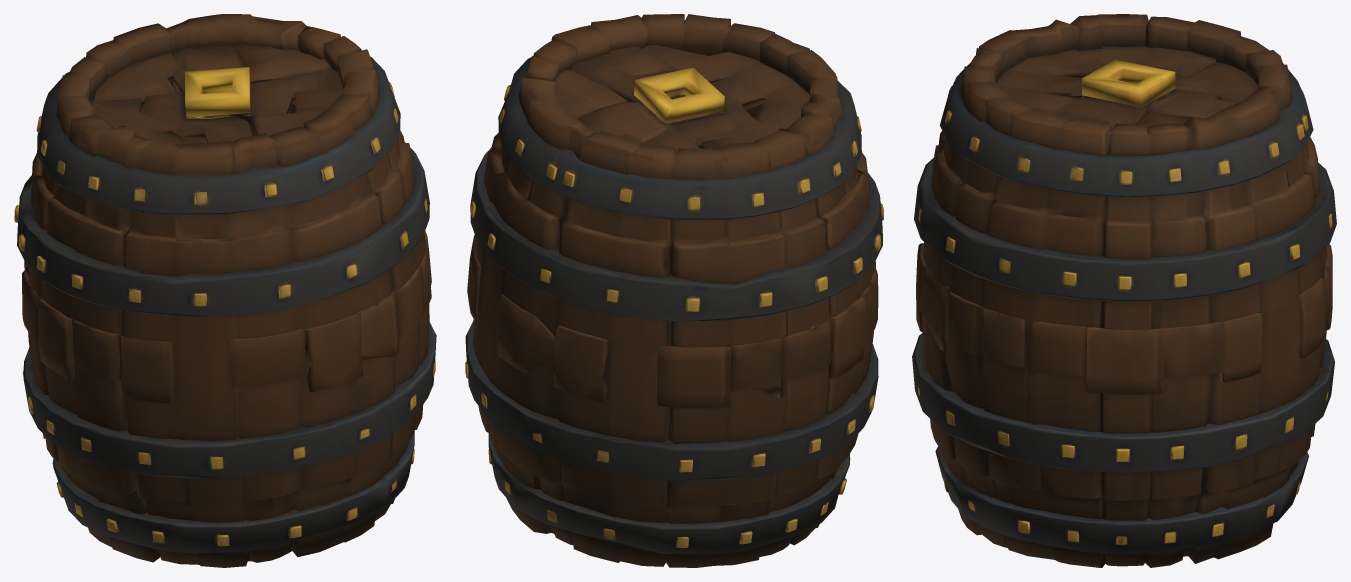
Rendered from barril.glb.
3 renders of one model, left to right at view 1: azimuth 30°, elevation 25°; view 2: azimuth 150°, elevation 25°; view 3: azimuth 270°, elevation 25°, orthographic. The views are drawn at different scales.
Parts seen in each view (by area): view 1: tripo_7d68346e_bc78_473b_a969_d01b76569183; view 2: tripo_7d68346e_bc78_473b_a969_d01b76569183; view 3: tripo_7d68346e_bc78_473b_a969_d01b76569183.
Boxes of the visible parts, x1,y1,x2,y2 form: tripo_7d68346e_bc78_473b_a969_d01b76569183: [14, 14, 436, 567]; tripo_7d68346e_bc78_473b_a969_d01b76569183: [465, 14, 883, 567]; tripo_7d68346e_bc78_473b_a969_d01b76569183: [912, 14, 1336, 567].
Size of the model in its own units: 0.8219 by 0.9159 by 0.7909.
Materials: 1 (1 with a texture image).
